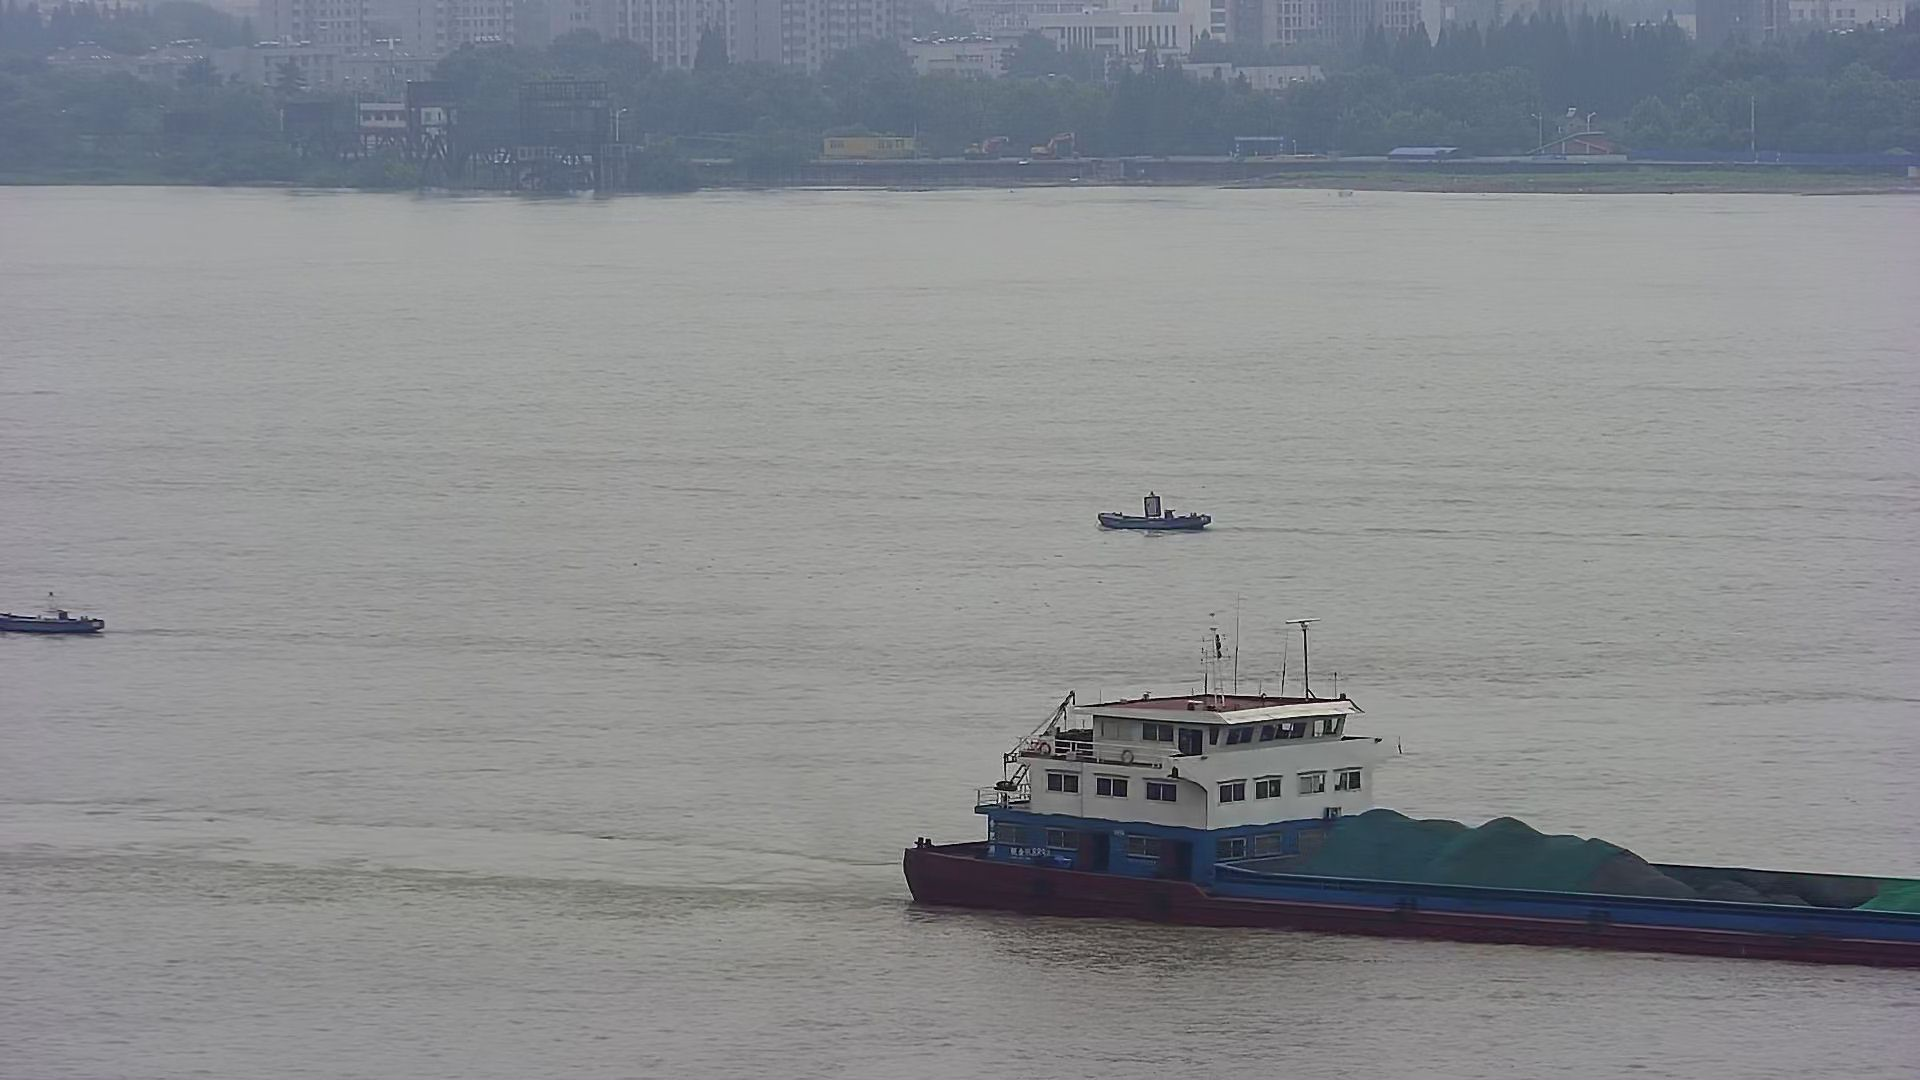boat: (1096, 483, 1207, 541), (1, 585, 112, 642)
ship: (905, 618, 1920, 977)
